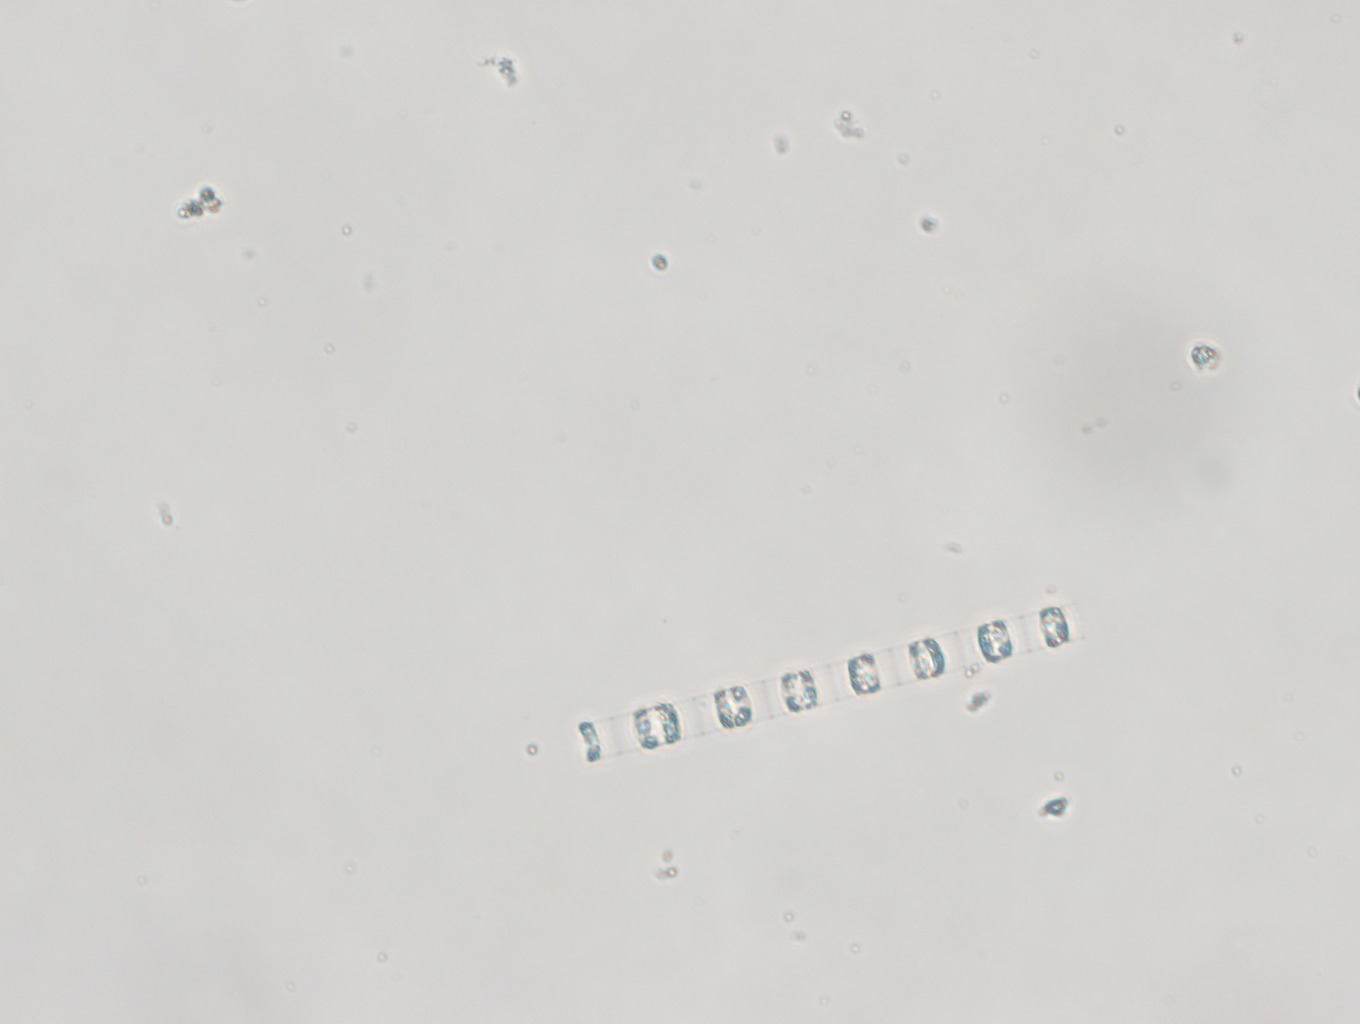skeletonema: (571, 603, 1080, 769)
